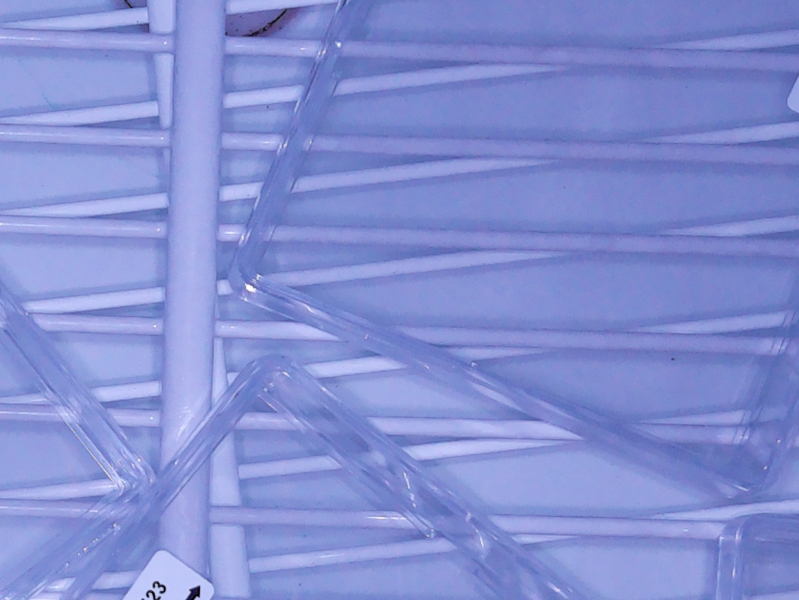plate: (222, 1, 799, 502), (63, 353, 584, 600), (1, 279, 160, 600), (710, 513, 799, 600)
